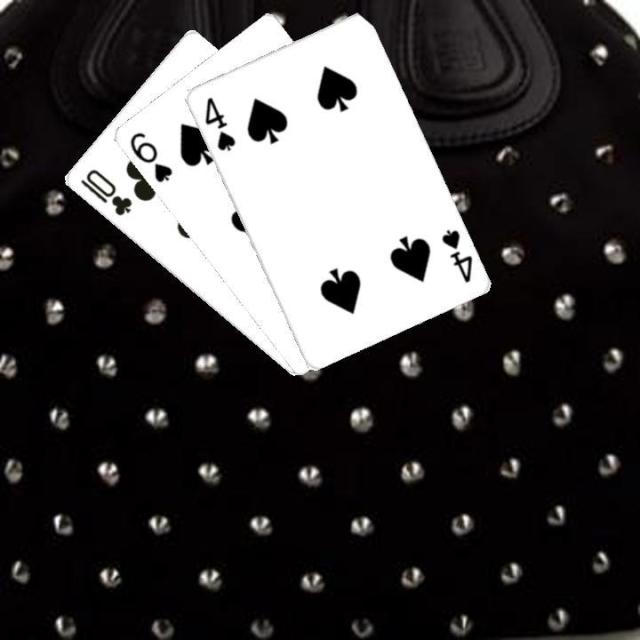10C: (76, 164, 134, 218)
4S: (436, 225, 474, 284), (200, 92, 236, 153)
6S: (124, 128, 174, 184)
